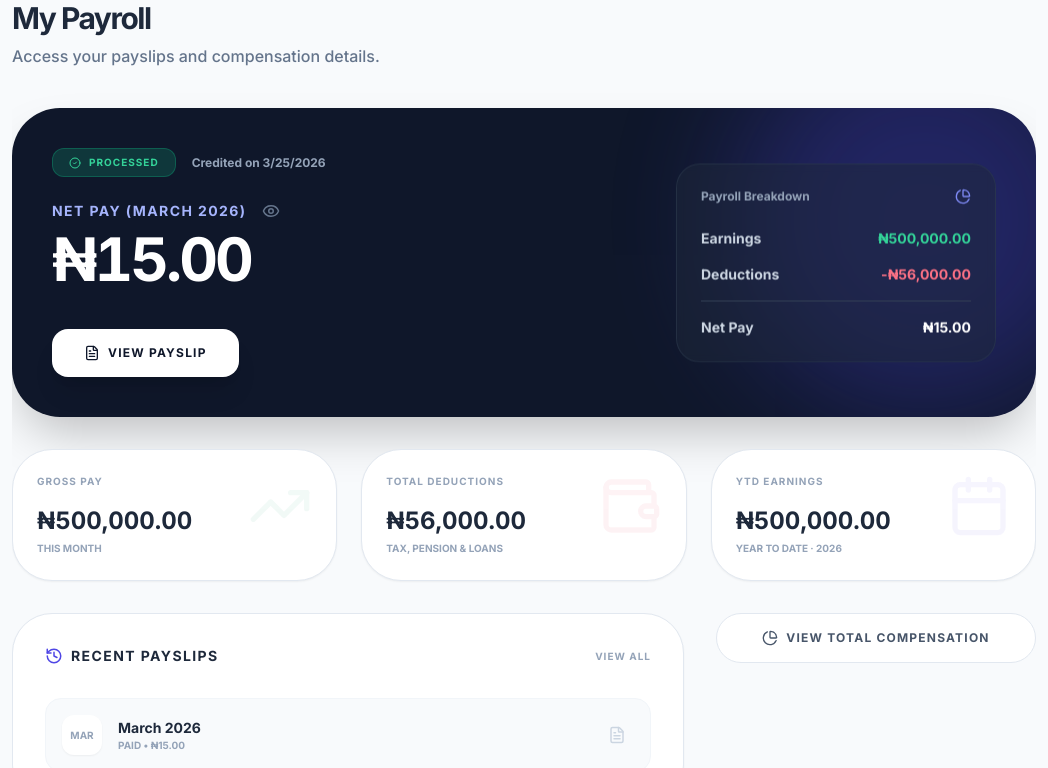
MyPayroll › Payslip detail — amount in words › spells 15 as "Fifteen Naira Only"
Click the button "View Payslip". click: (145, 353)
box: [52,329,239,377]
(page scrolled)
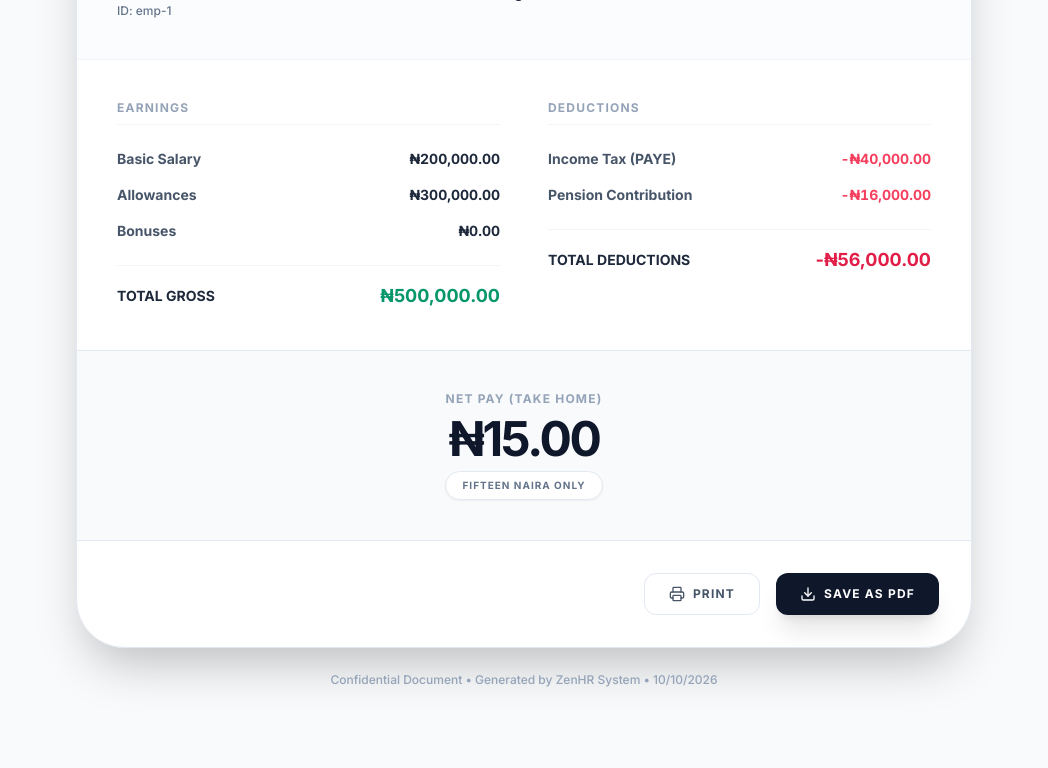
Expected: the text "Fifteen Naira Only" is shown, [446,471,603,500]
